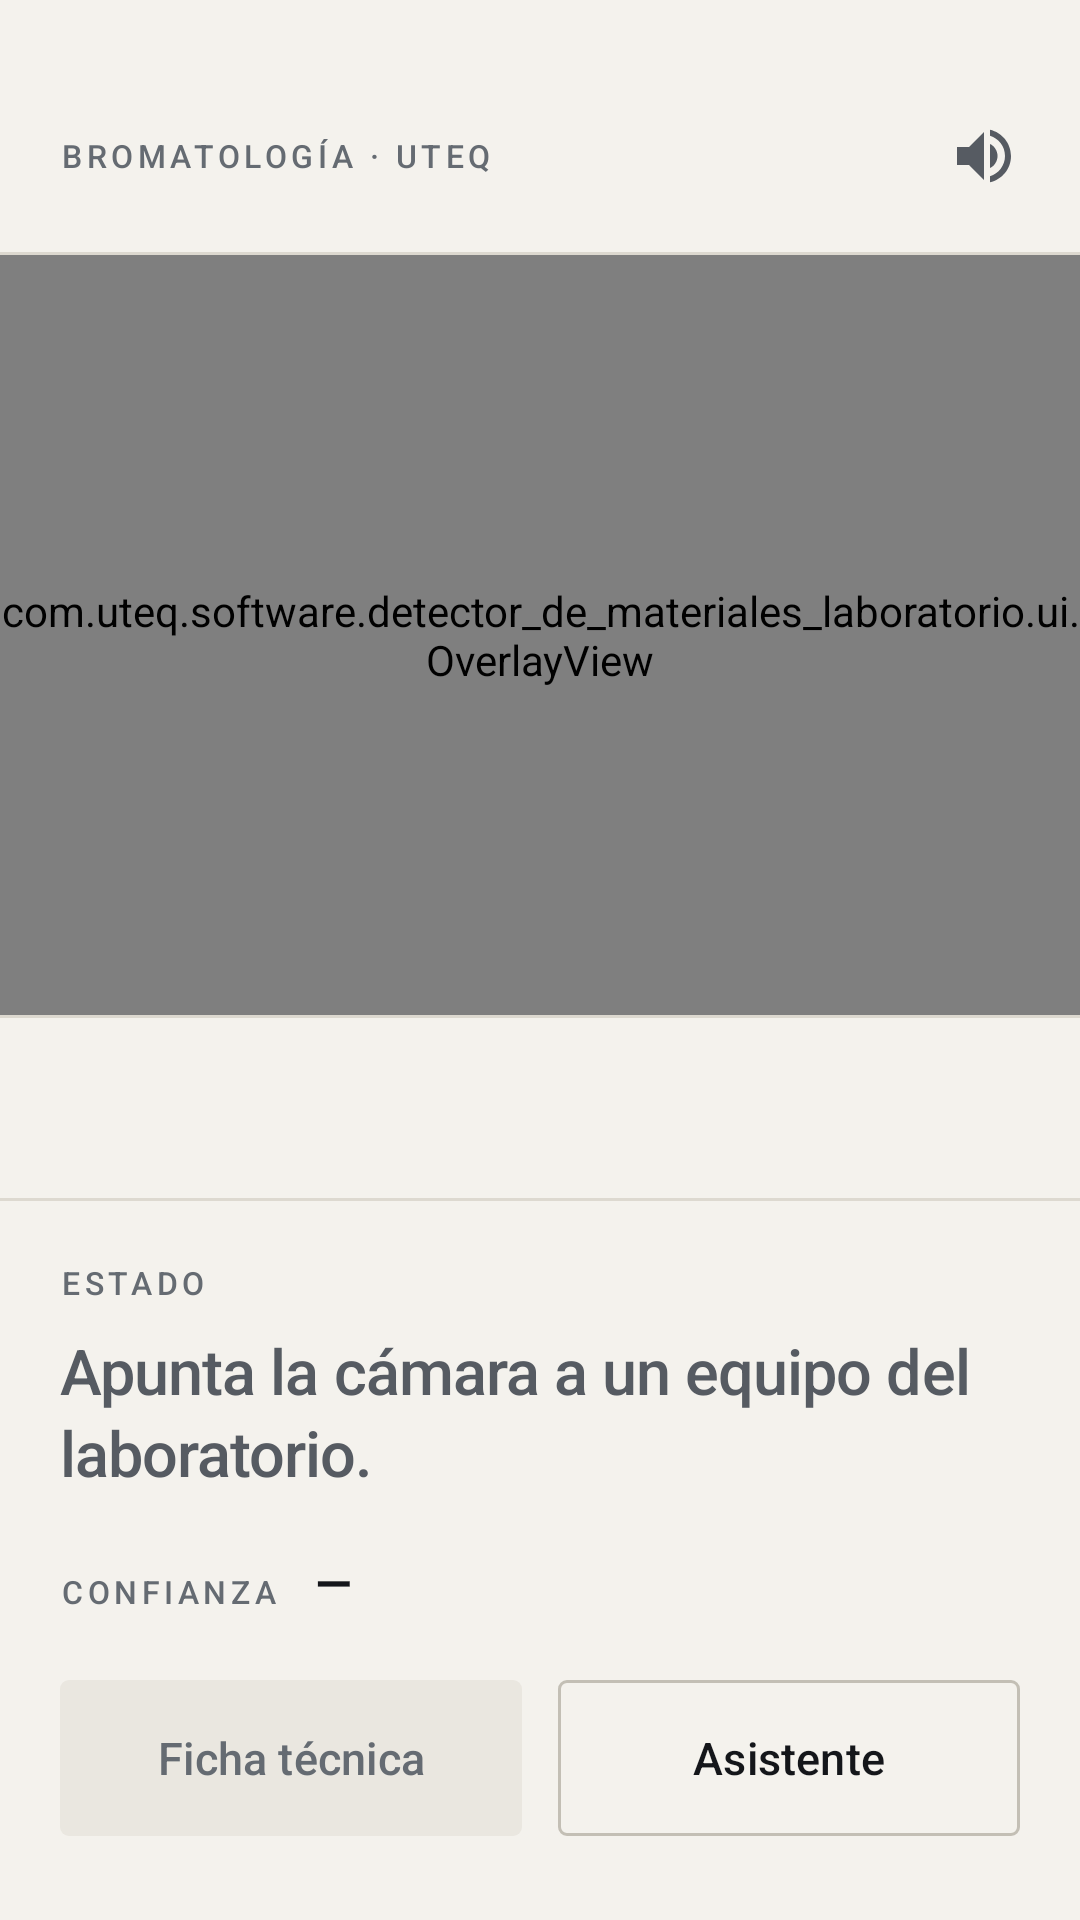

Where to tap for icons on this 1080 × 1920 app screen, as (x,y):
Silenciar anuncios de voz: (984,156)
